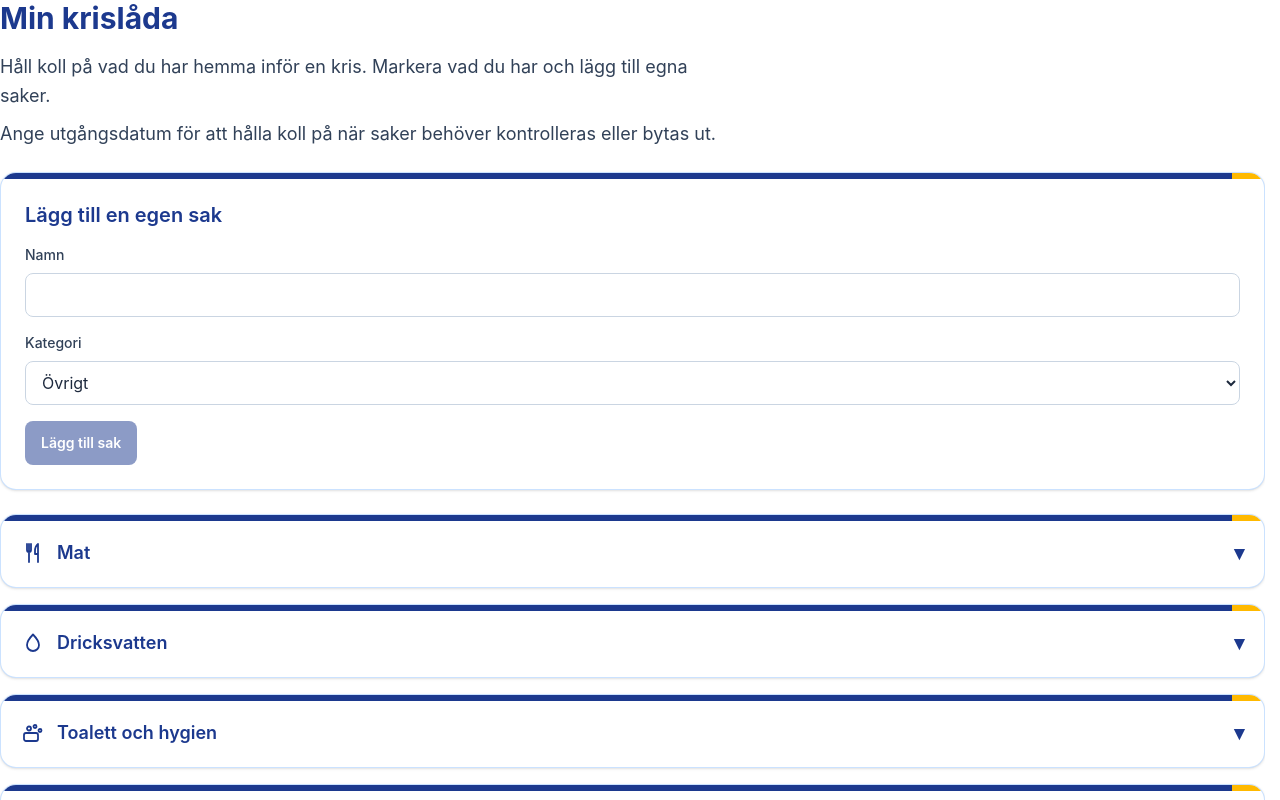
Test: CrisisKitPage category sections › only displays group headings when that group contains items
This screenshot has width=1280, height=800.
Click the heading "Mat ▾".
click(616, 518)  # box [1,515,1264,587]
(page scrolled)
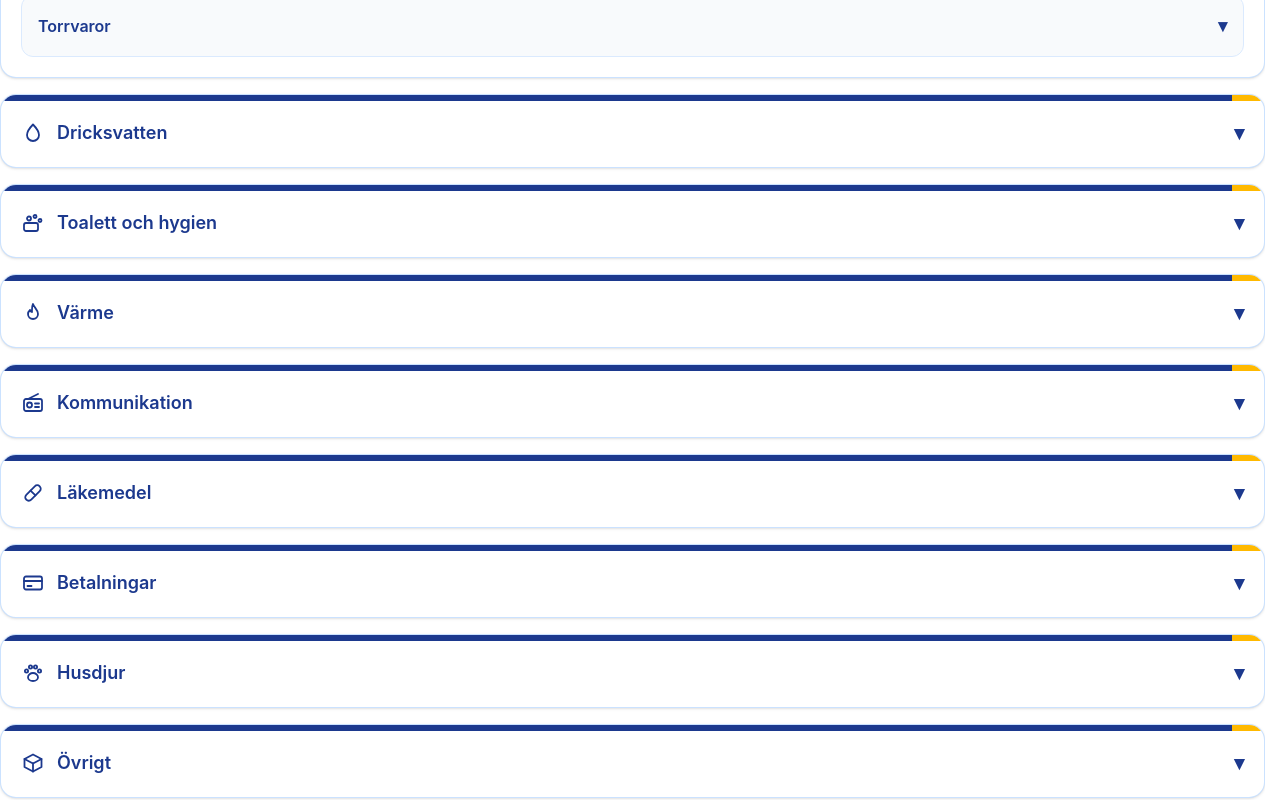
Expected: the heading "Egna saker" is not shown
Click the heading "Kommunikation ▾".
click(616, 368)  # box [1,365,1264,437]
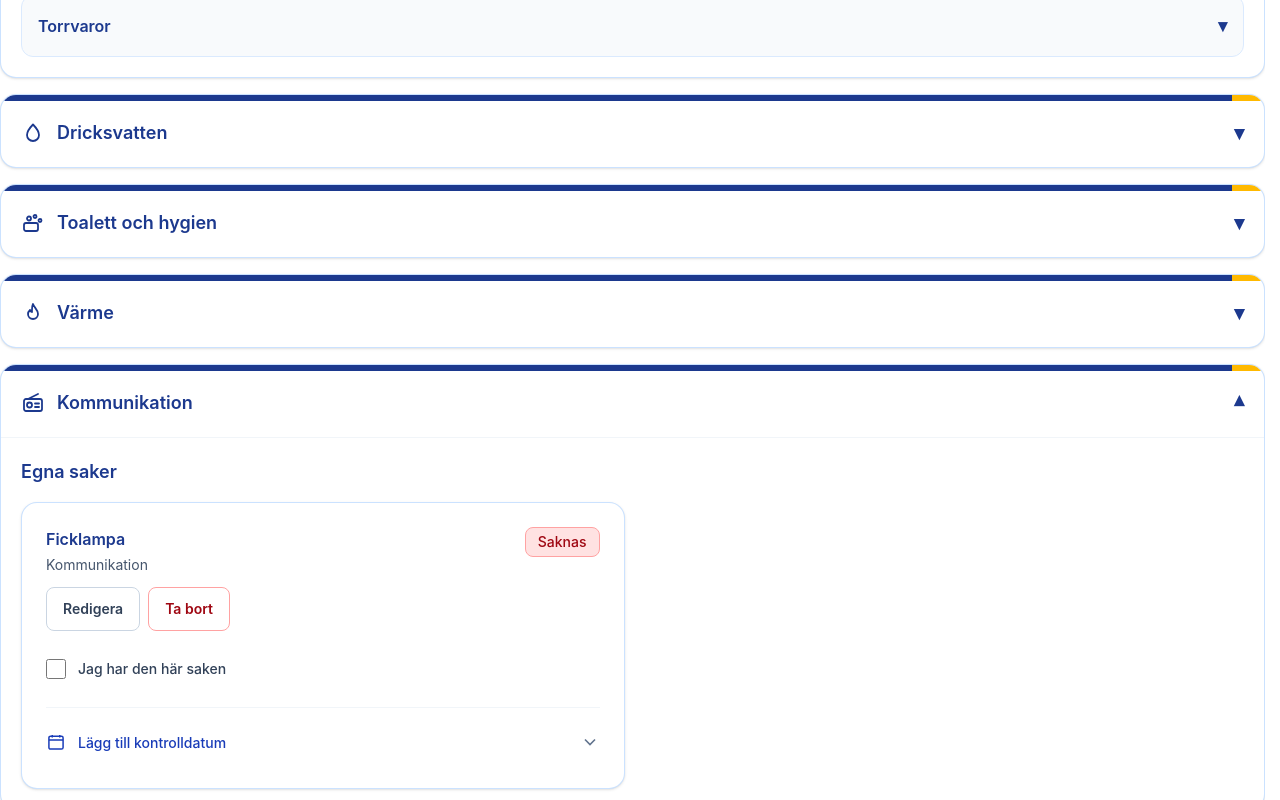
Expected: the heading "Egna saker" is shown, [21,461,117,482]
